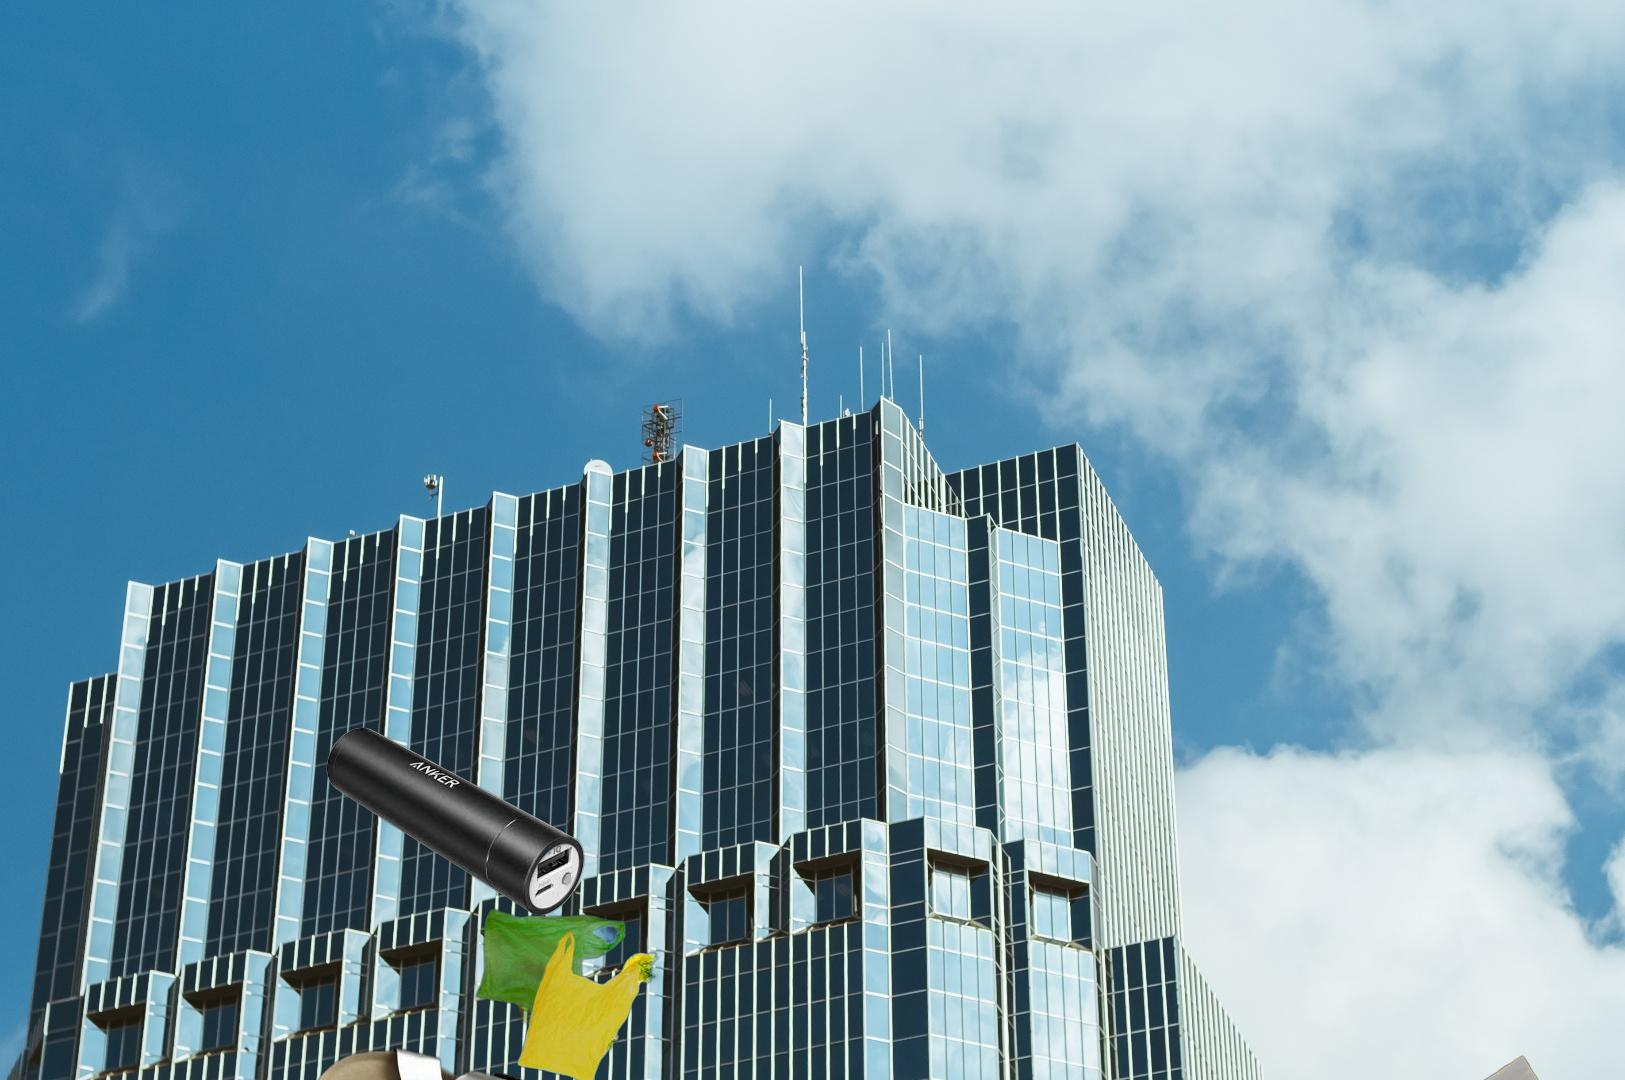battery: (326, 726, 585, 918)
paper-bag: (1313, 1053, 1579, 1080)
plastic-bag: (473, 906, 671, 1080)
shoes: (205, 1044, 605, 1080)
